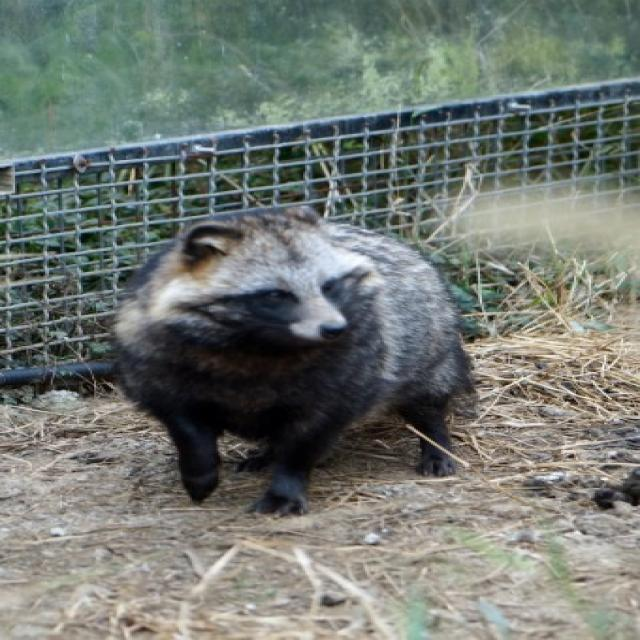racoon: (108, 185, 478, 512)
